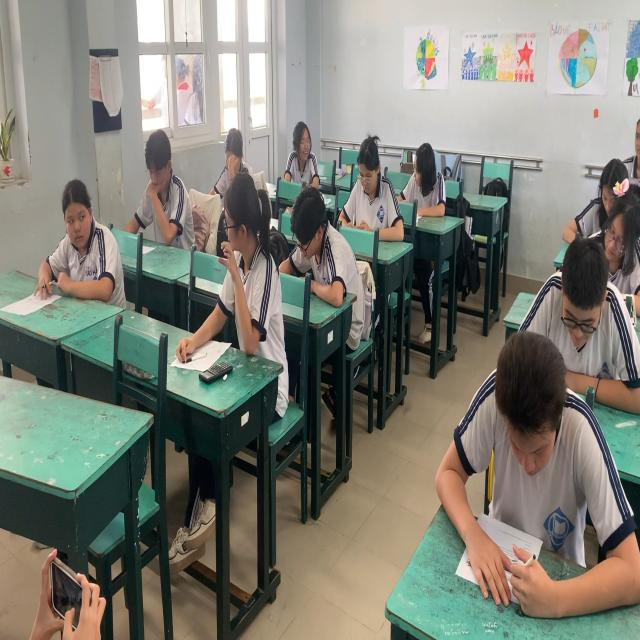cheating: (198, 179, 276, 419), (33, 170, 127, 337), (382, 140, 450, 235), (279, 102, 324, 198)
not_cheating: (420, 363, 598, 633), (498, 269, 603, 463), (282, 178, 364, 327), (536, 180, 612, 325), (125, 119, 189, 258), (337, 129, 401, 250), (582, 139, 634, 263), (208, 114, 254, 198)
